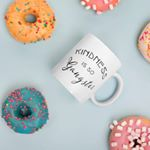cups: (49, 30, 129, 113)
